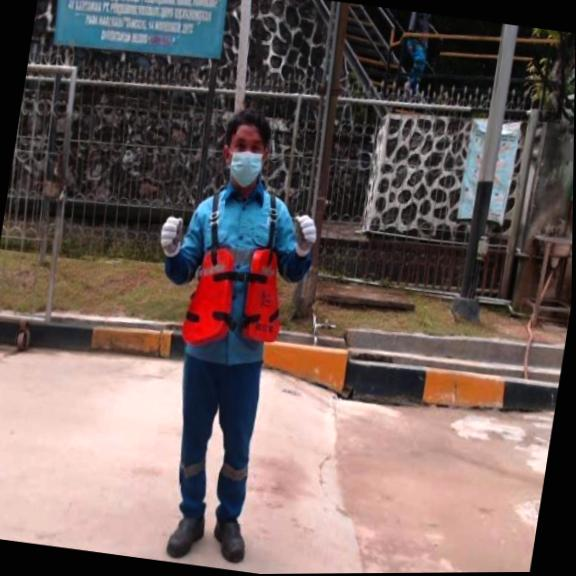safety_vest: (177, 238, 295, 359)
